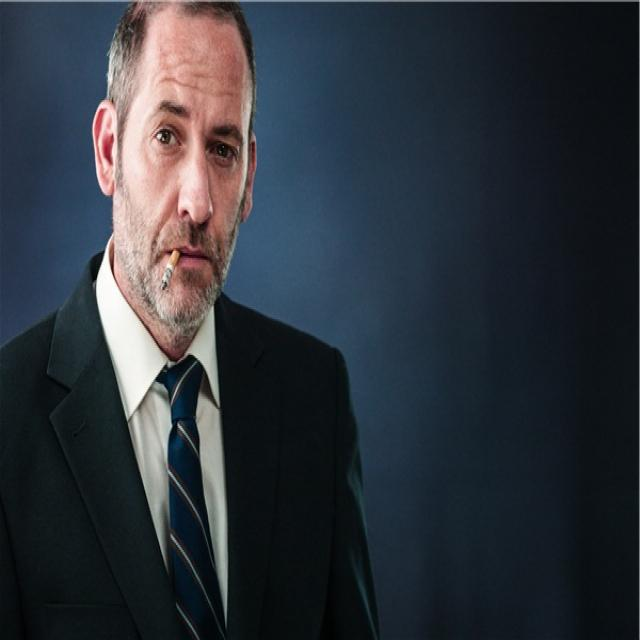smoking: (160, 246, 181, 292)
